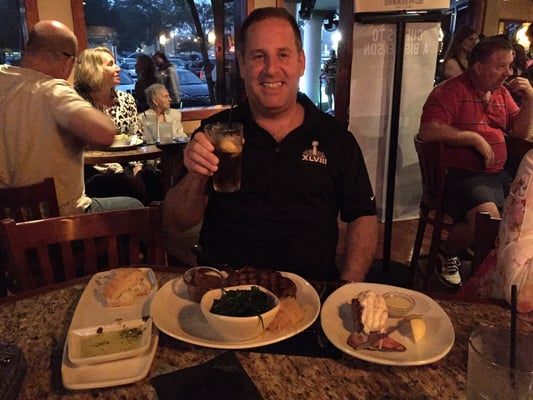pizza: (464, 324, 533, 400), (209, 123, 245, 194), (159, 122, 174, 143)
sushi: (201, 285, 281, 341), (178, 266, 229, 303)
